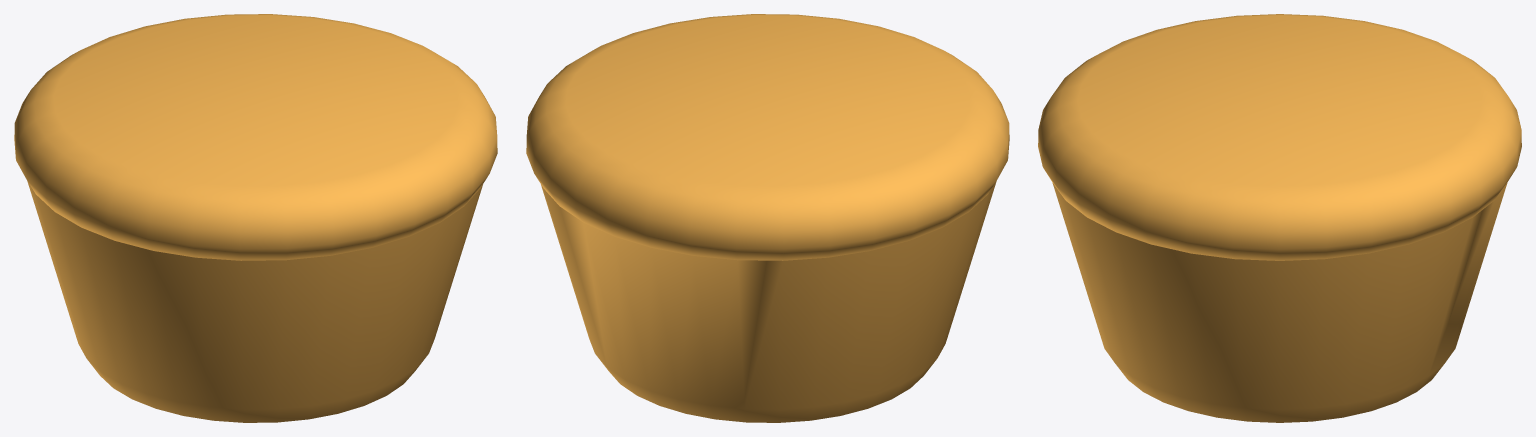
File: ciasto-babeczka.gltf
3 renders of one model, left to right at view 1: azimuth 30°, elevation 25°; view 2: azimuth 150°, elevation 25°; view 3: azimuth 270°, elevation 25°, orthographic.
Parts seen in each view (by area): view 1: Plane; view 2: Plane; view 3: Plane.
Boxes of the visible parts, bbox=[...] form: Plane: bbox=[14, 14, 497, 422]; Plane: bbox=[526, 14, 1009, 422]; Plane: bbox=[1038, 14, 1521, 422].
Size of the model in its own units: 0.1638 by 0.0954 by 0.1638.
1 material, 1 textured.
